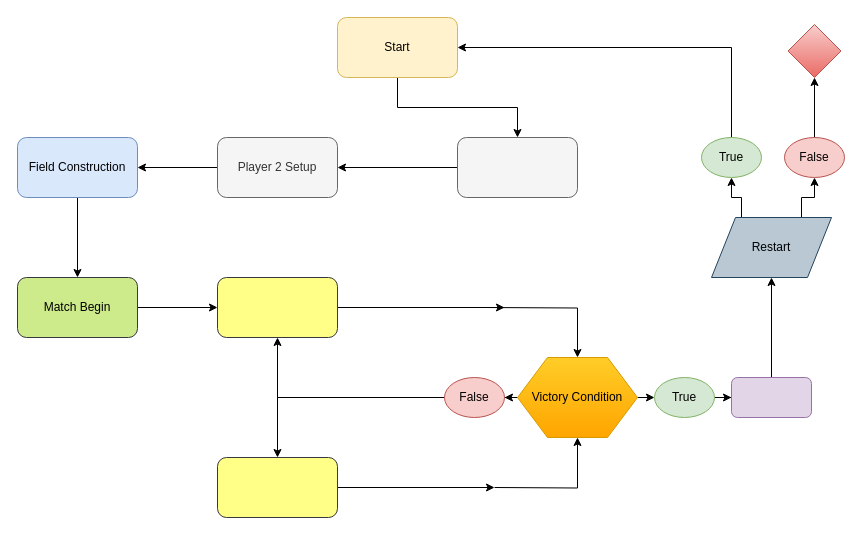
Some shapes in this 862 by 535 pixel diagram are drawn without their labels. The shapes that lost their labels are listed below. From the top down, each one's centre as x and y in pixels, then its label:
pixel 814 51: Close
pixel 517 167: Player 1 Setup
pixel 277 307: Player 1 or 2 Turn
pixel 771 397: End
pixel 277 487: Player 2 or 1 Turn
